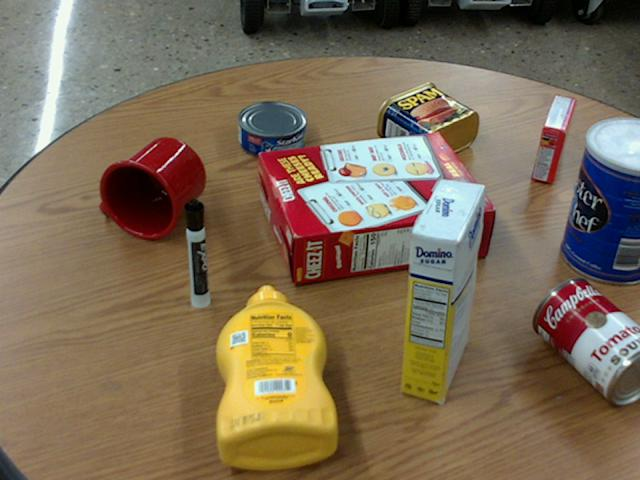cracker_box: (257, 132, 492, 284)
gelatin_box: (532, 95, 575, 182)
large_marker: (183, 198, 208, 307)
master_chef_can: (561, 118, 639, 284)
mug: (99, 136, 204, 239)
mustard_bottle: (216, 285, 337, 468)
potted_meat_can: (377, 82, 478, 160)
sugar_box: (400, 178, 485, 401)
tomato_soup_can: (533, 276, 639, 400)
tuna_fish_can: (238, 100, 306, 156)
